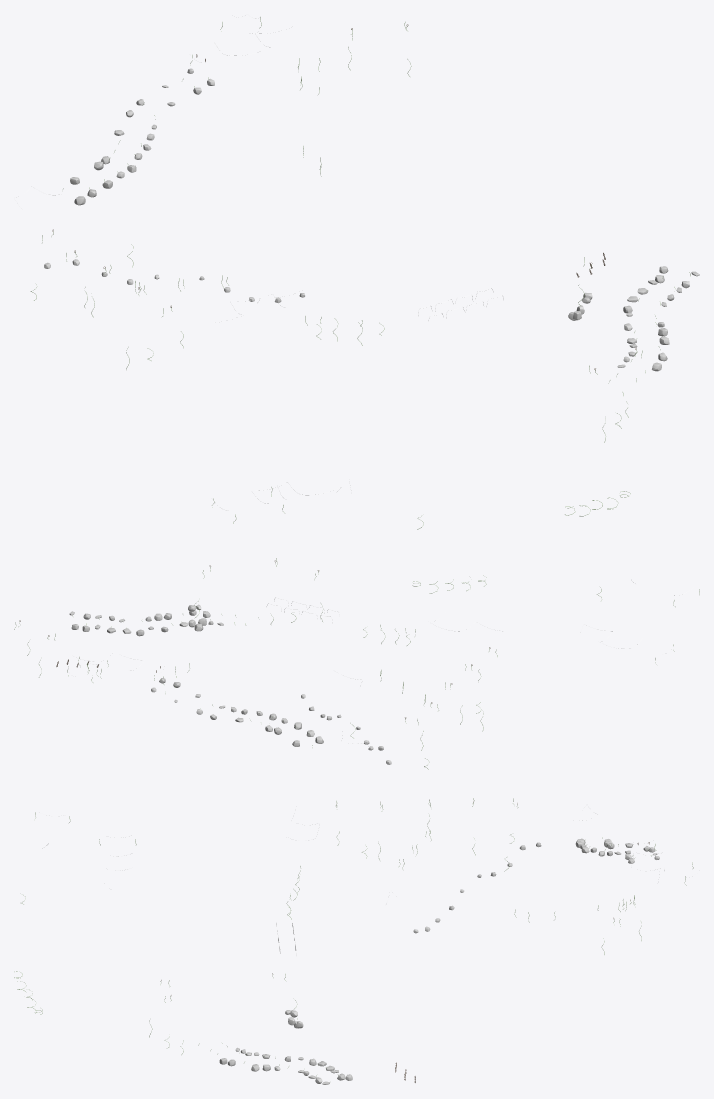
The model's file is run_rockwork.glb.
3 renders of one model, top to bottom at view 1: azimuth 30°, elevation 25°; view 2: azimuth 150°, elevation 25°; view 3: azimuth 270°, elevation 25°, orthographic. The views are drawn at different scales.
Parts seen in each view (by area): view 1: run_rockwork; view 2: run_rockwork; view 3: run_rockwork.
Boxes of the visible parts, bbox=[...] form: run_rockwork: bbox=[15, 16, 699, 529]; run_rockwork: bbox=[14, 558, 699, 769]; run_rockwork: bbox=[14, 798, 699, 1084].
Size of the model in its own units: 206 by 62.19 by 248.
